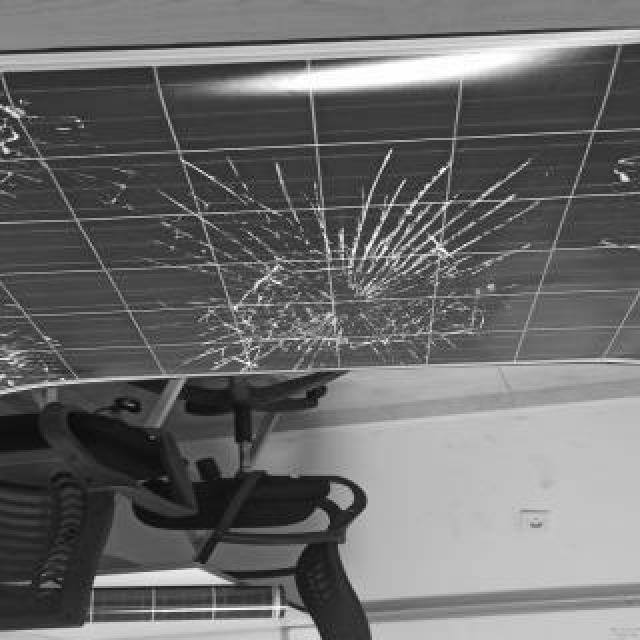Dusty: (2, 46, 637, 381)
Physical-damage: (165, 148, 533, 372), (3, 63, 77, 226), (3, 285, 76, 401)
